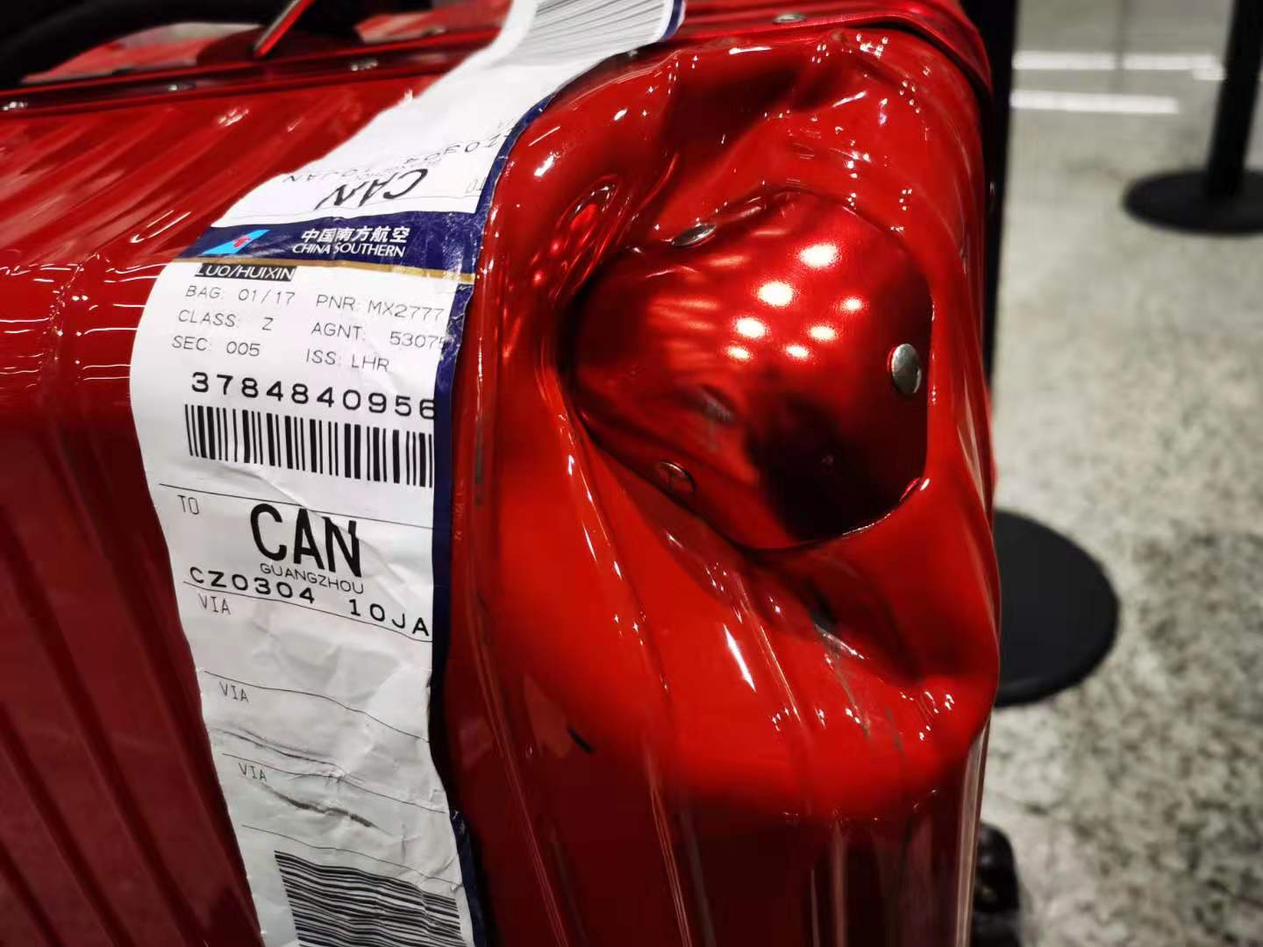rupture: (476, 33, 1005, 815)
